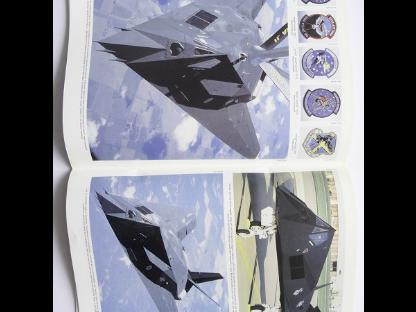E7: (91, 0, 290, 160), (92, 188, 224, 311), (236, 178, 337, 311)
